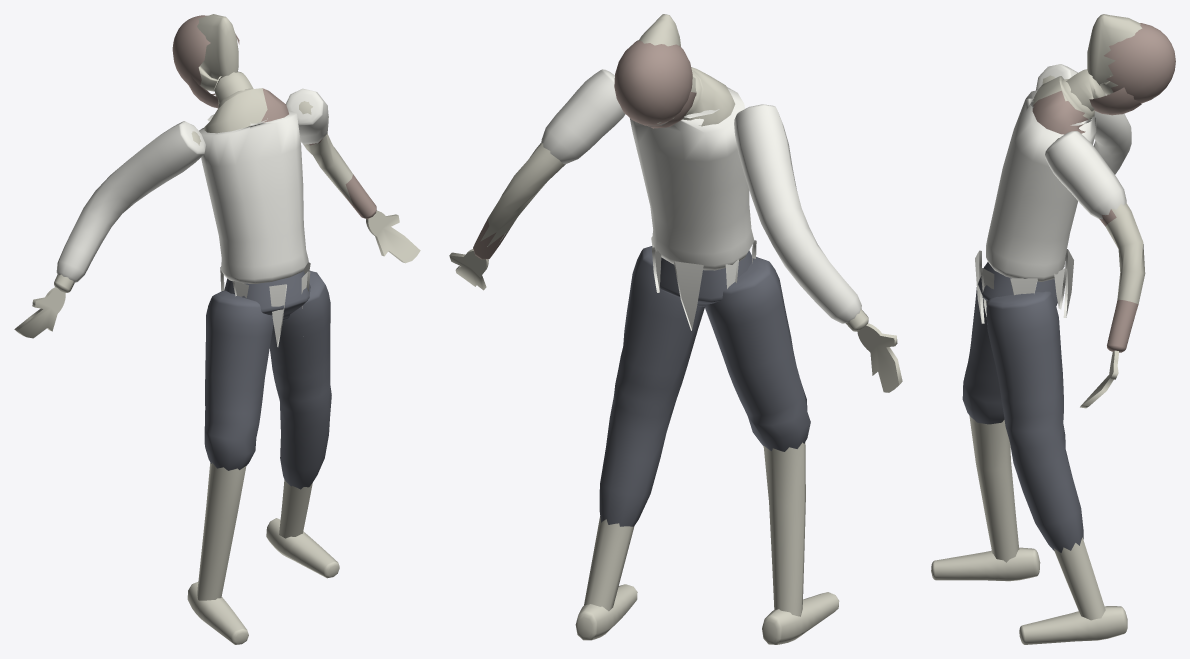
The model's file is undead-horde-and-infected-variants-screamer-infected-359c18ab__11999.glb.
3 views of the same model, side by side, from view 1: azimuth 30°, elevation 25°; view 2: azimuth 150°, elevation 25°; view 3: azimuth 270°, elevation 25° (orthographic). The views are drawn at different scales.
Parts seen in each view (by area): view 1: screamer-infected; view 2: screamer-infected; view 3: screamer-infected.
Part boxes in pixels (left/top/right/bottom): screamer-infected: left=14, top=14, right=420, bottom=644; screamer-infected: left=449, top=14, right=902, bottom=644; screamer-infected: left=931, top=14, right=1175, bottom=644.
Bounding box in the file's own units: 1.23 × 1.66 × 0.6169.
